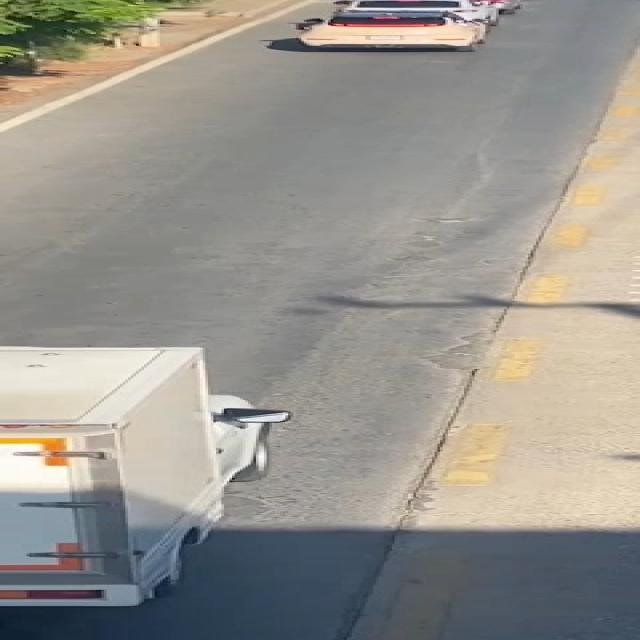car: (278, 8, 522, 56)
